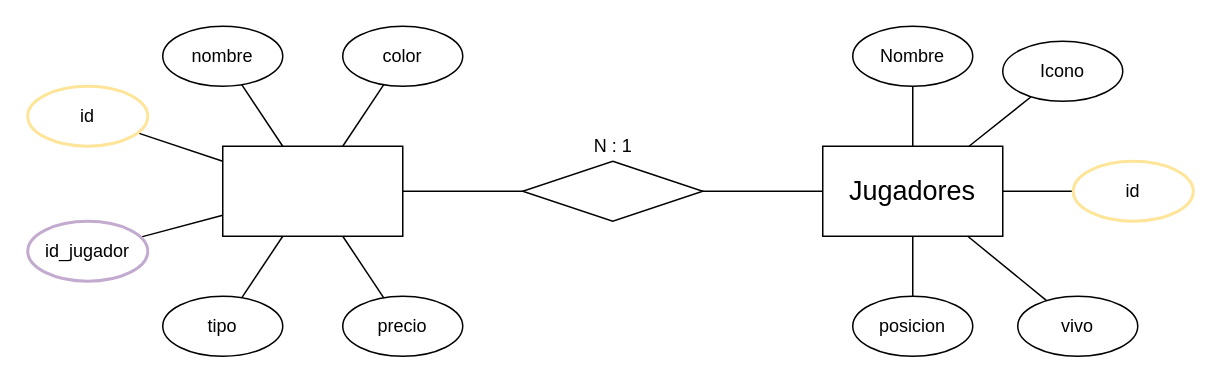
Some shapes in this 1220 by 383 pixel diagram are drawn without their labels. Here are the shapes that lost their labels. From the top down, the centre of each, then its label:
the point at 312,190: Casillas
the point at 612,190: Pertenece
